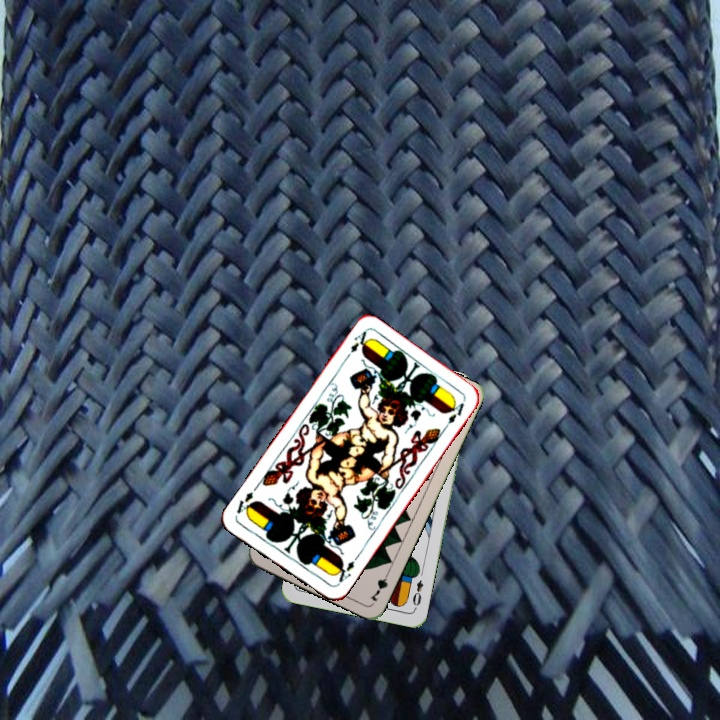EA: (331, 556, 357, 585), (346, 327, 372, 355)
EO: (408, 576, 426, 612)
G7: (366, 566, 392, 604)
